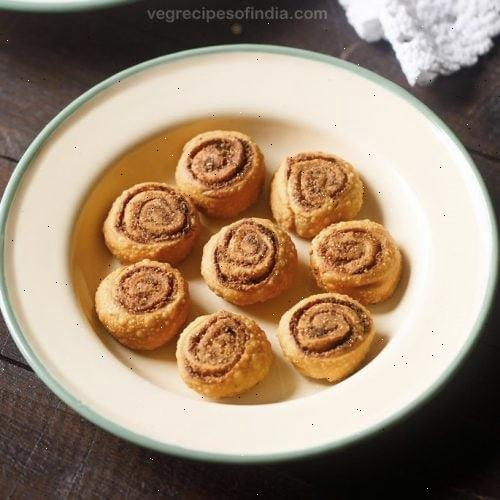bhakarwadi: (99, 127, 409, 403)
